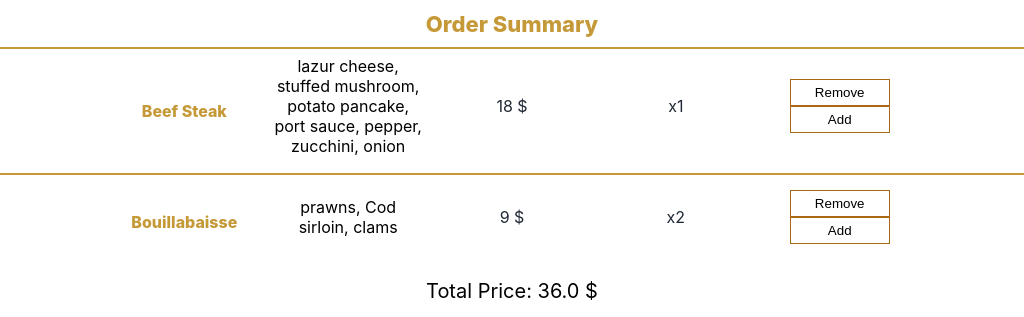
Test: summary prop equals true › should update price after removing a meal
Click the button "Remove" in the row of "18" at (840, 92), box [790,79,890,106]
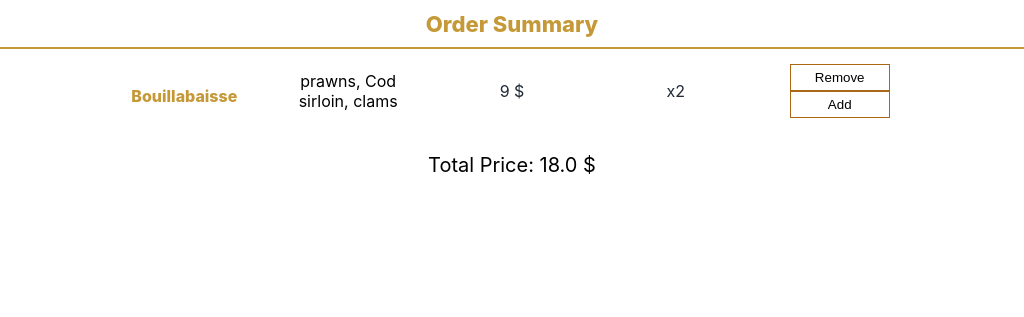
expect the text "Total Price: 18.0 $" is shown: met, box [428,153,596,177]
